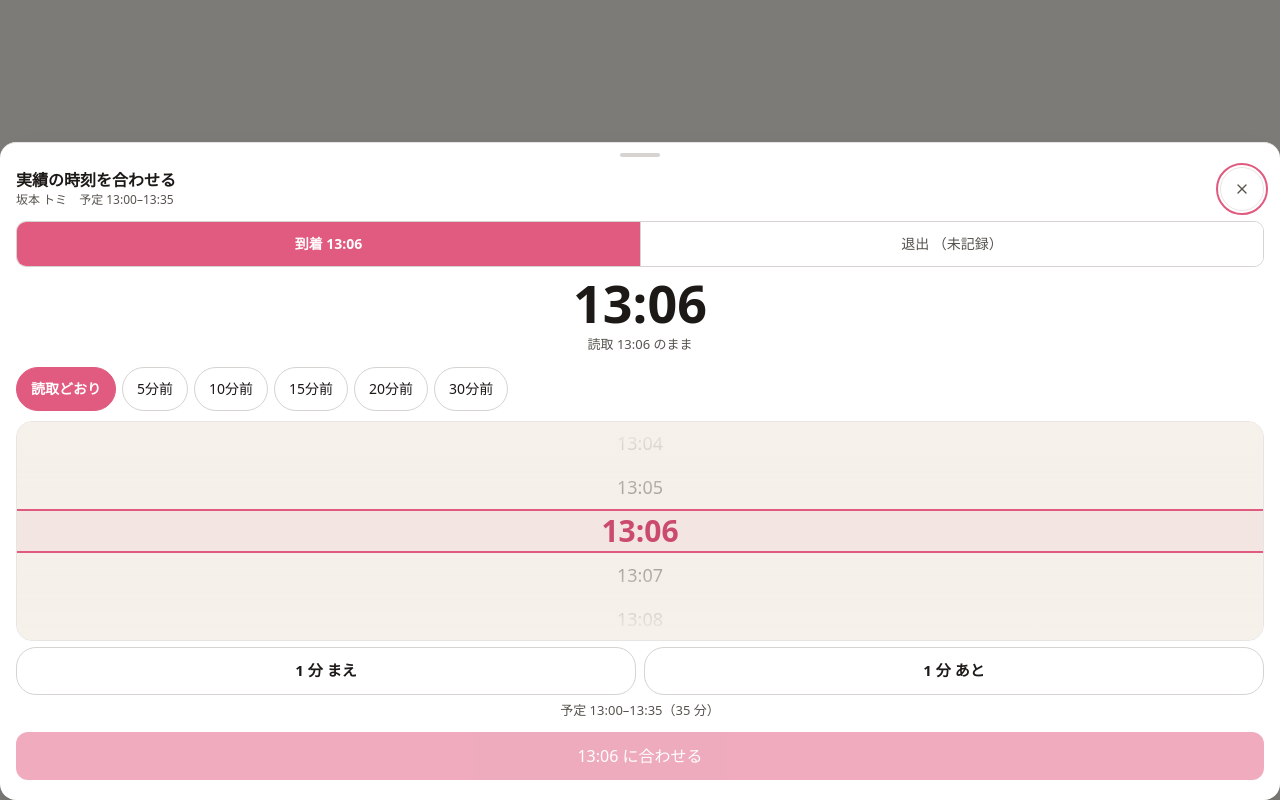
Test: ActualTimeSheet — 到着 › 「1 分 まえ」「1 分 あと」で詰める。読取時刻より後へも、いまの時刻まで進められる
(page scrolled)
Step 1. Click the button "1 分 まえ" → point(326, 670), box [16, 646, 636, 694]
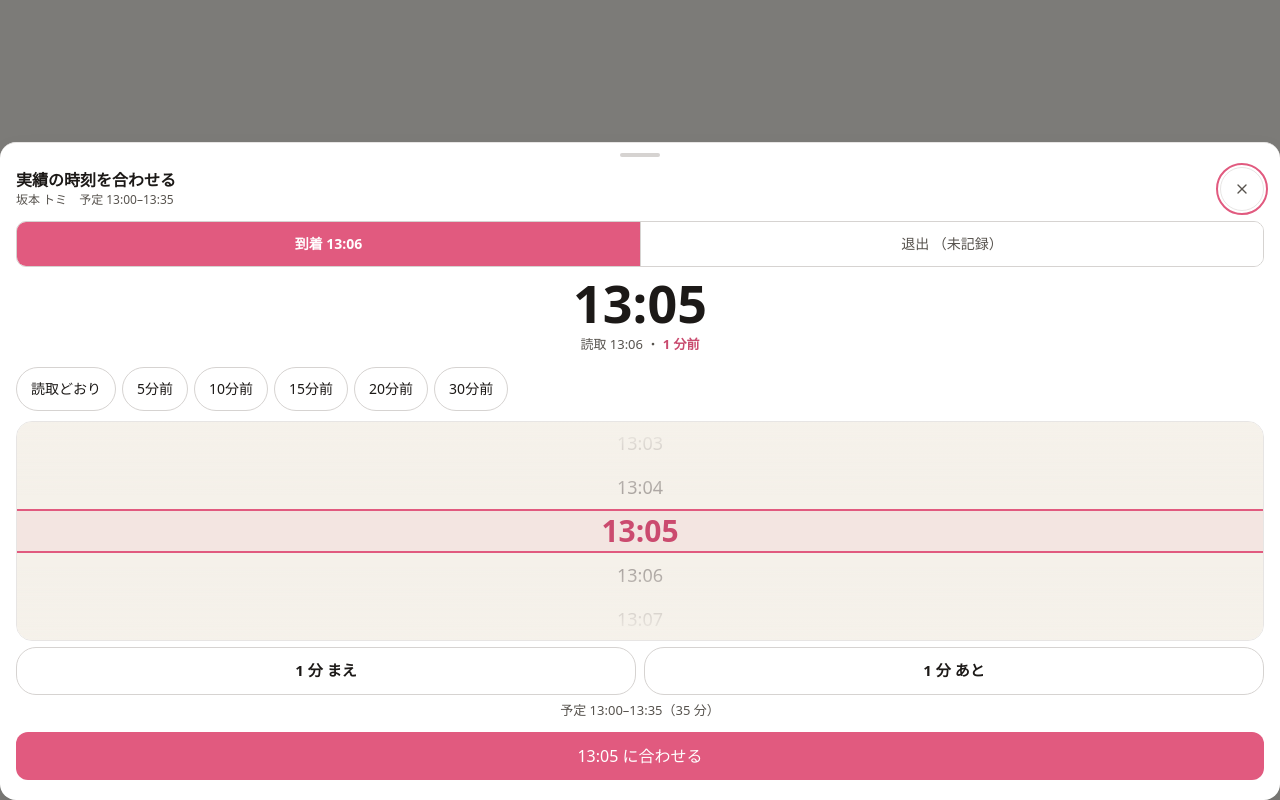
Step 2. Click the button "1 分 まえ" → point(326, 670), box [16, 646, 636, 694]
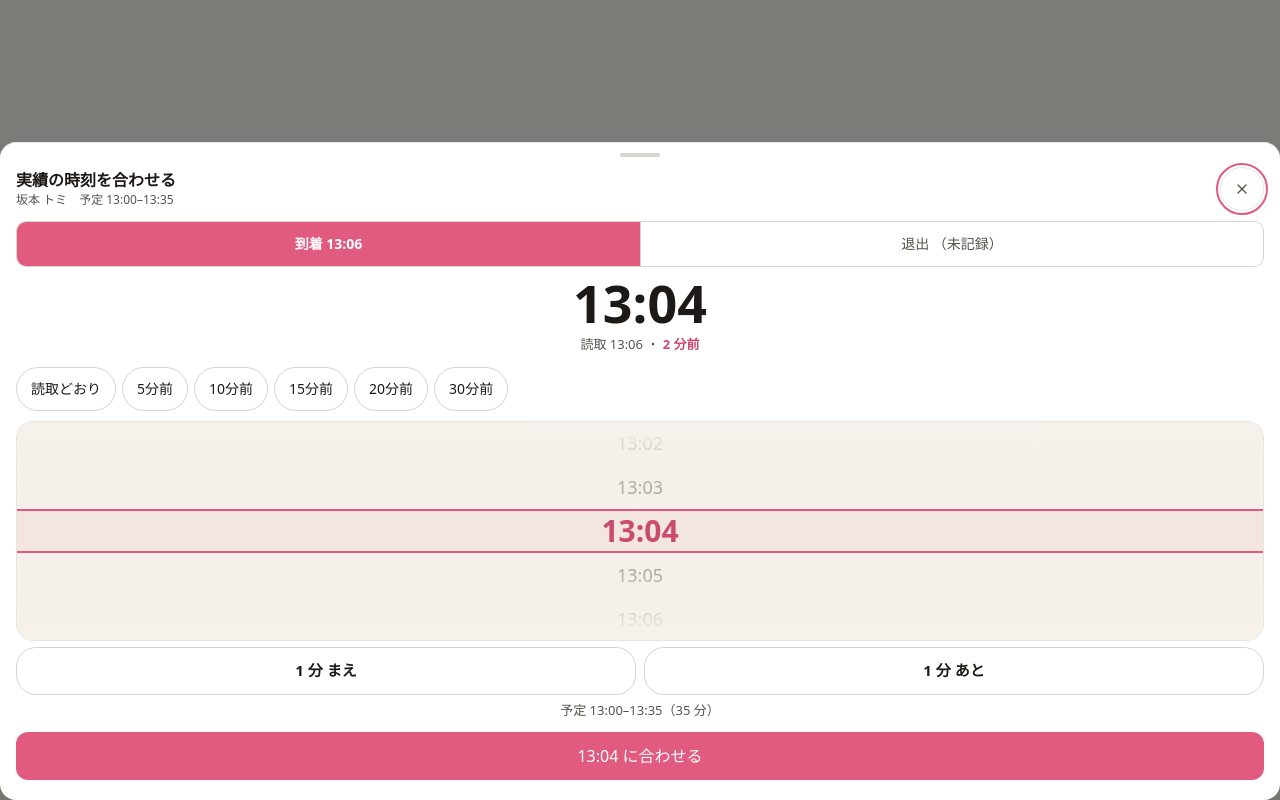
Step 3. Click the button "1 分 あと" → point(954, 670), box [644, 646, 1264, 694]
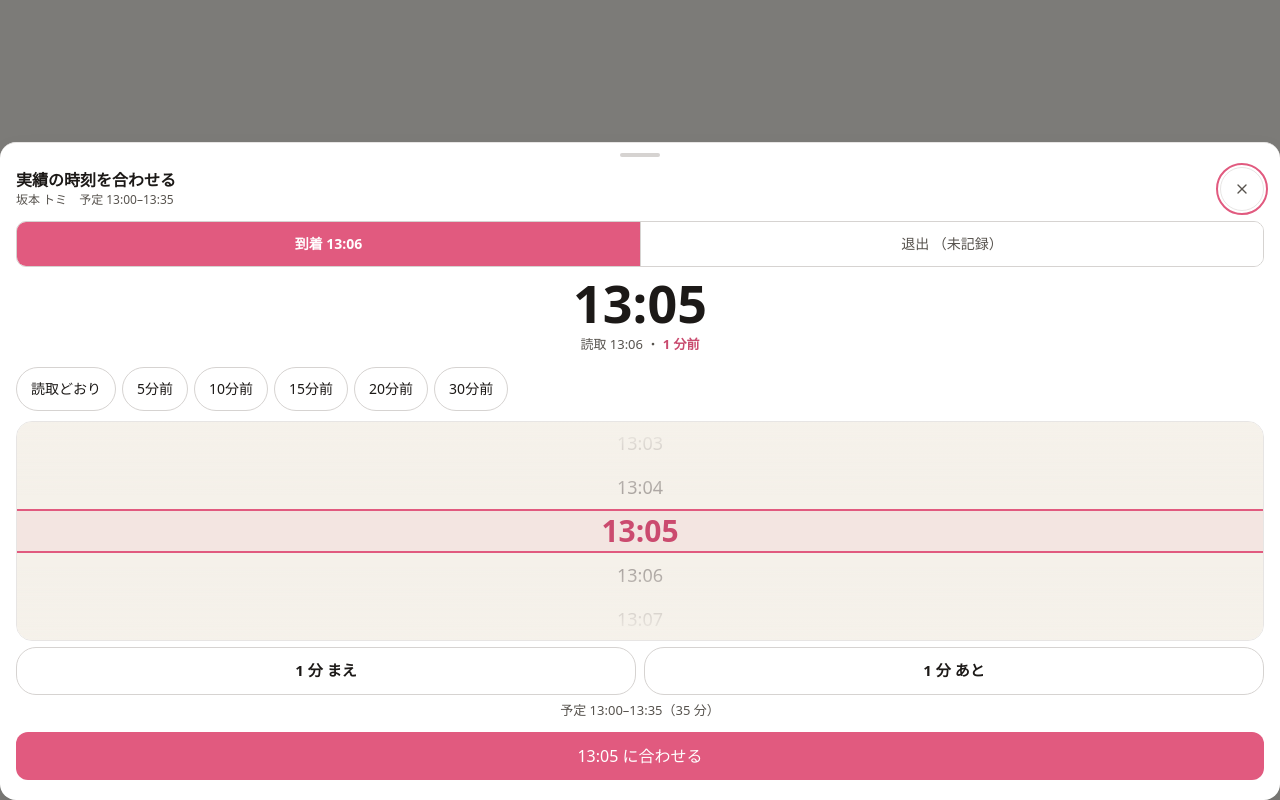
Step 4. Click the button "1 分 あと" → point(954, 670), box [644, 646, 1264, 694]
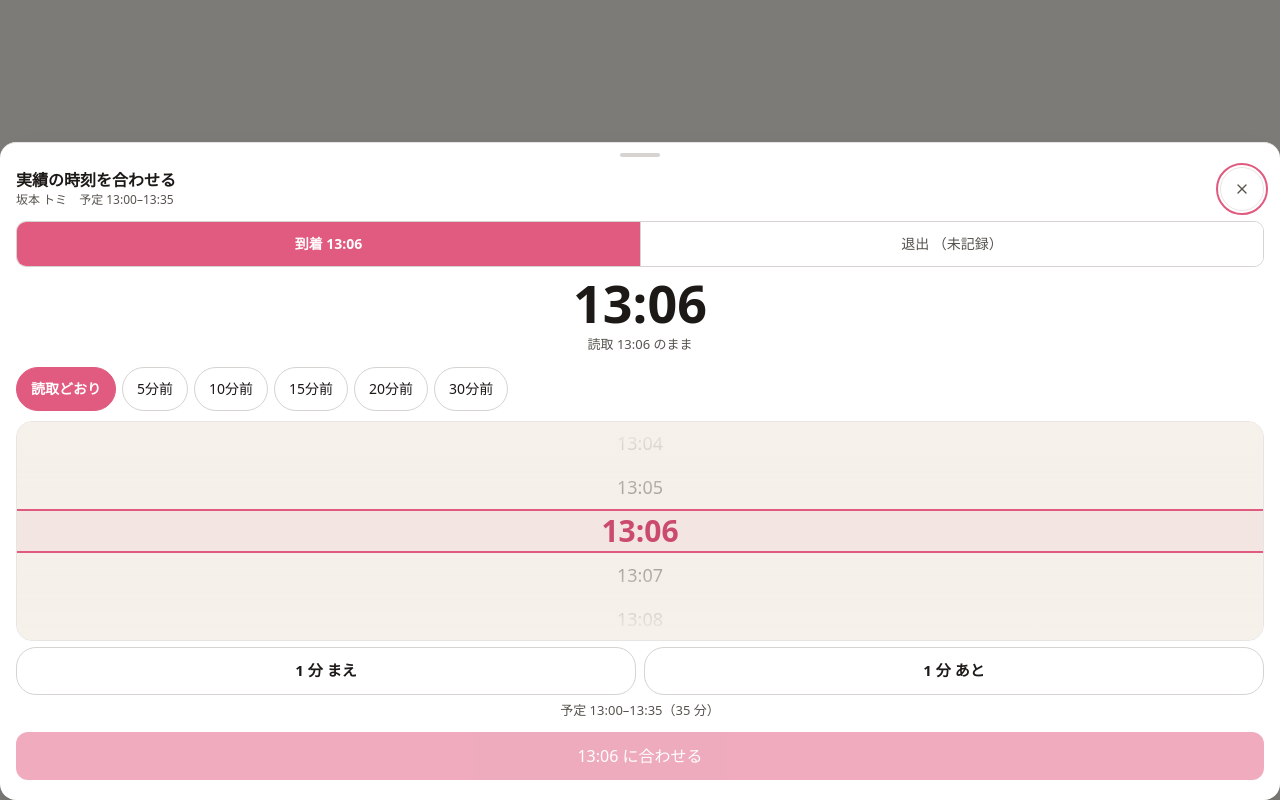
Step 5. Click the button "1 分 あと" → point(954, 670), box [644, 646, 1264, 694]
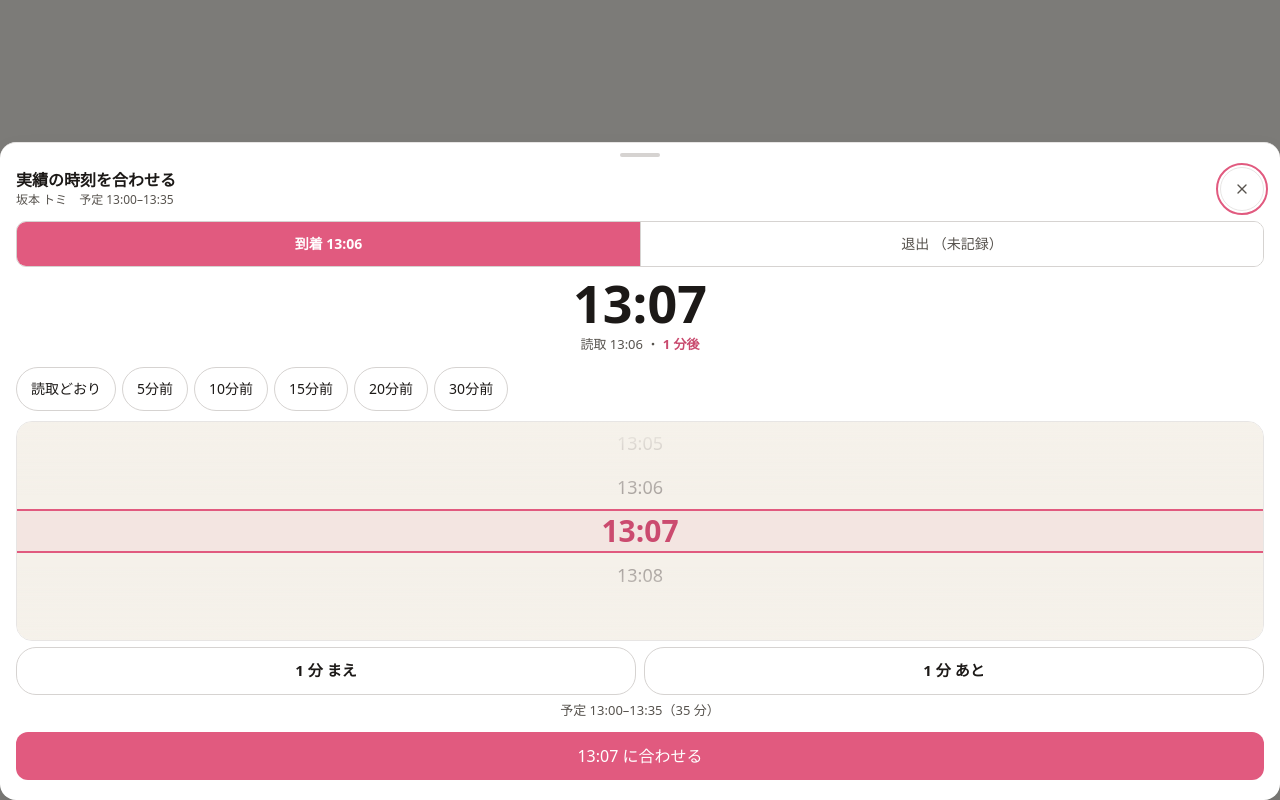
Step 6. Click the button "1 分 あと" → point(954, 670), box [644, 646, 1264, 694]
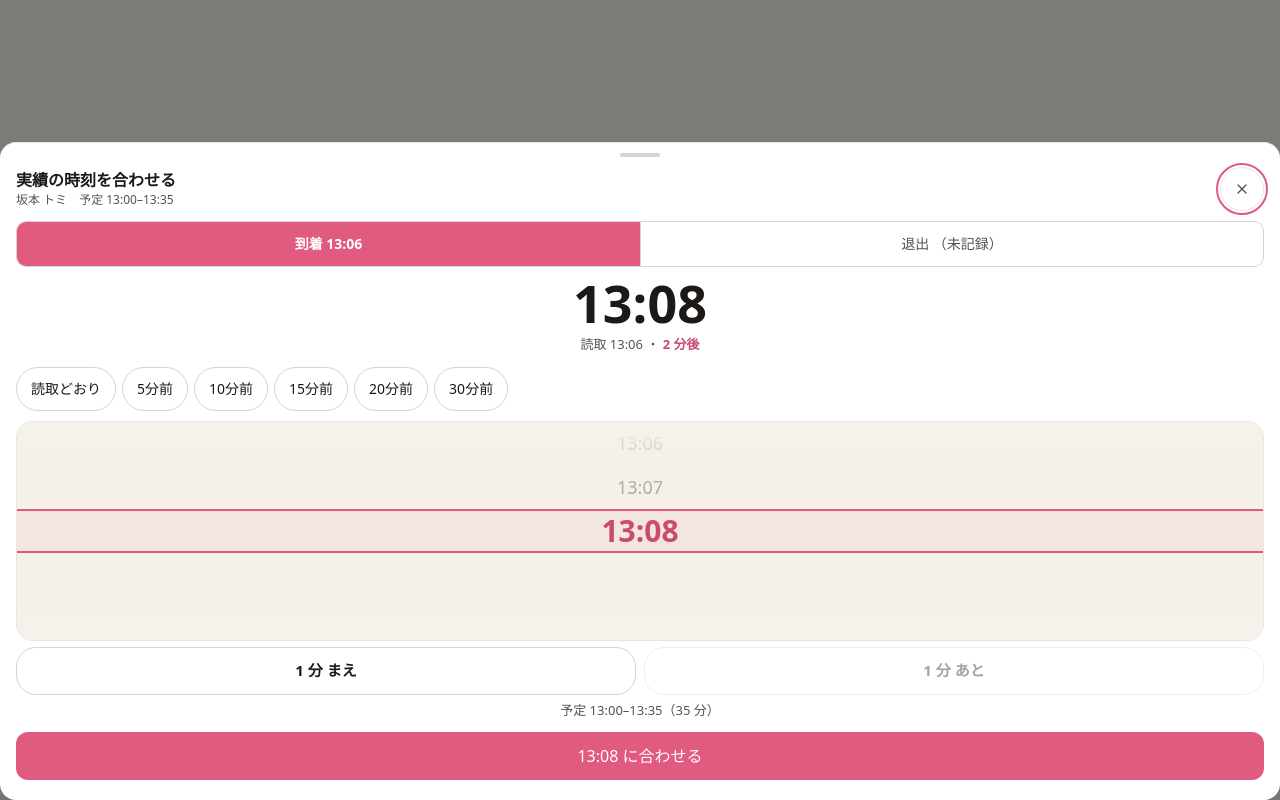
Check: the button "13:08 に合わせる" is enabled, box [16, 732, 1264, 780]
Check: the element with test id "actual-time-sub" reads "読取 13:06 ・ 2 分後", box [580, 335, 700, 353]
Check: the button "1 分 あと" is disabled, box [644, 646, 1264, 694]
